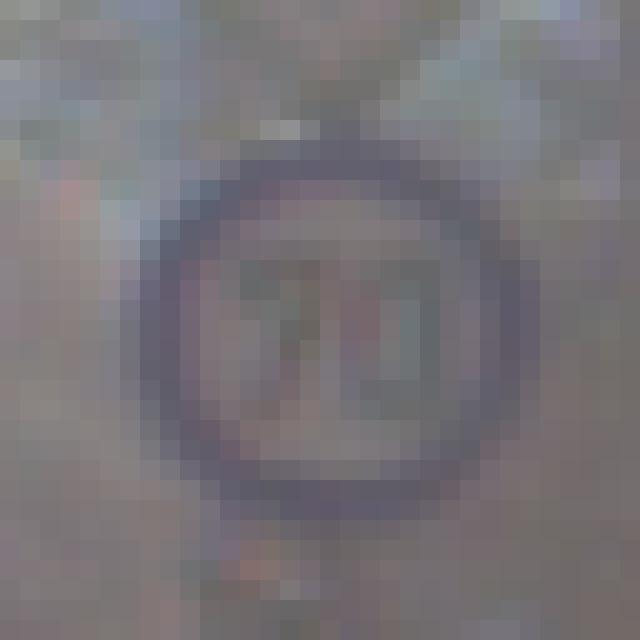SPEED LIMIT 70: (143, 139, 565, 508)
